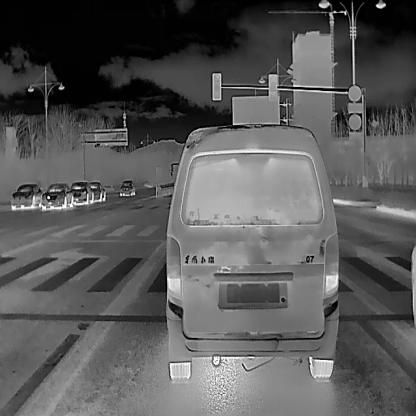car: (164, 122, 340, 380), (10, 182, 42, 210), (42, 182, 71, 206), (70, 180, 92, 204), (91, 180, 105, 200), (118, 178, 134, 195)
